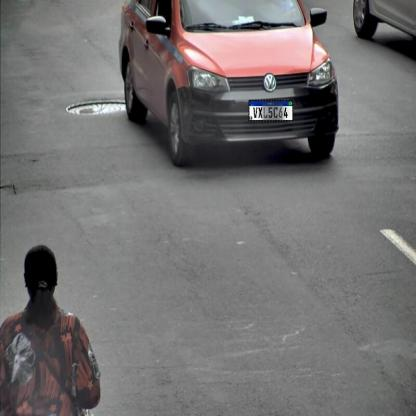PlacaM: (249, 100, 293, 121)
